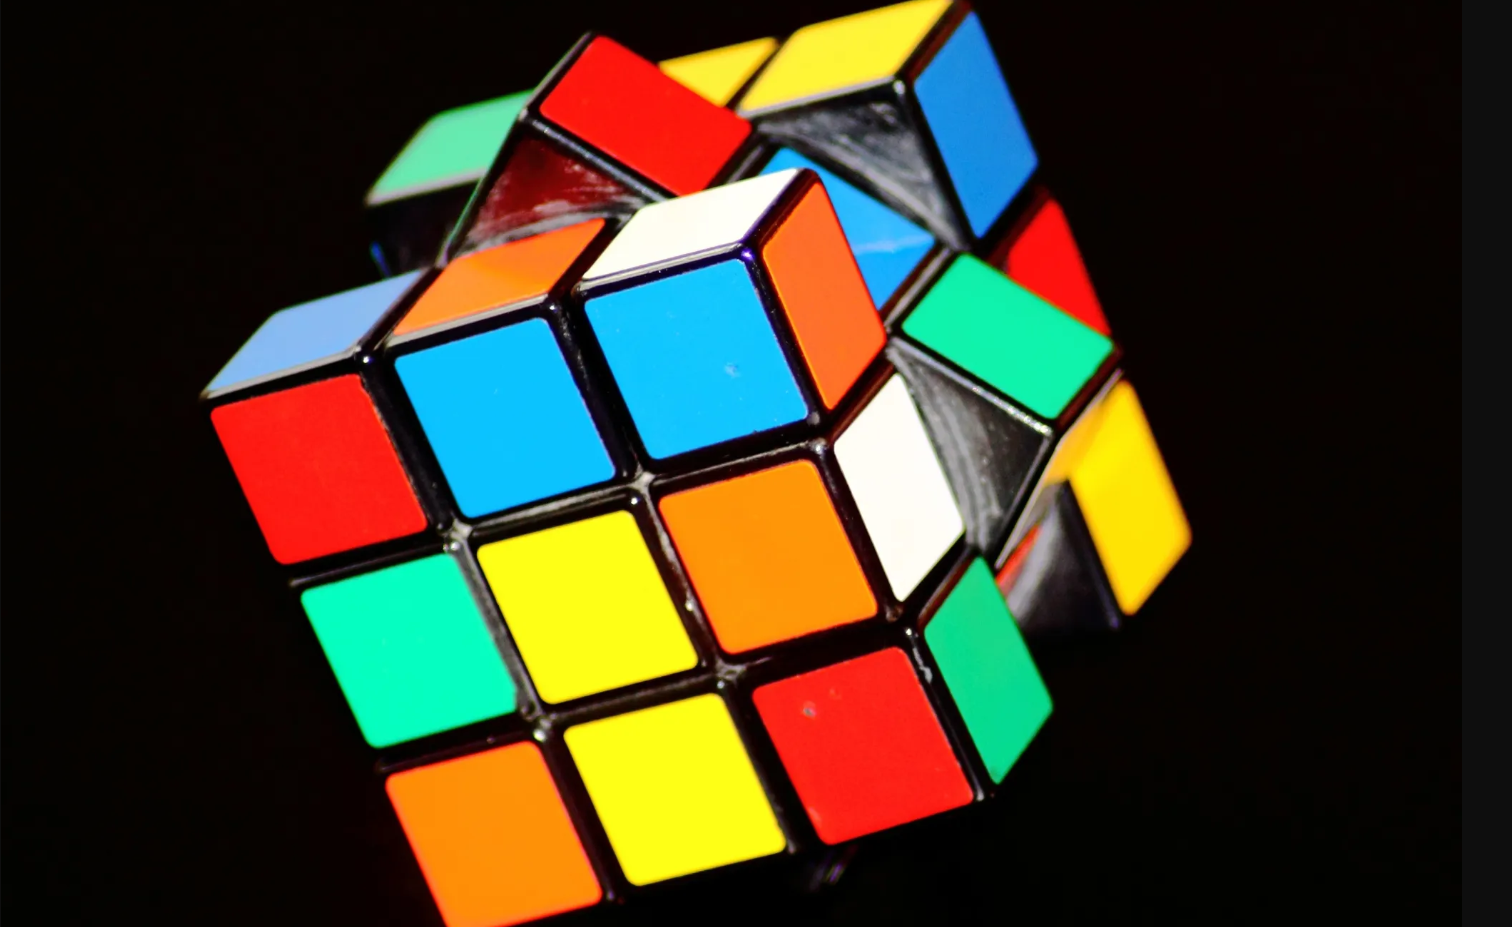cube: (205, 3, 1187, 927)
